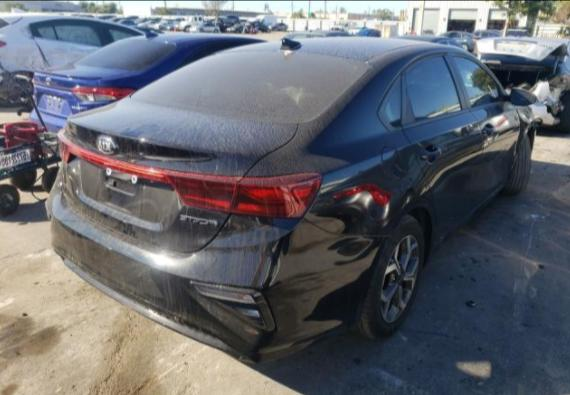Dent: (316, 182, 387, 258), (401, 187, 415, 206)
Missing part: (101, 171, 138, 207)
